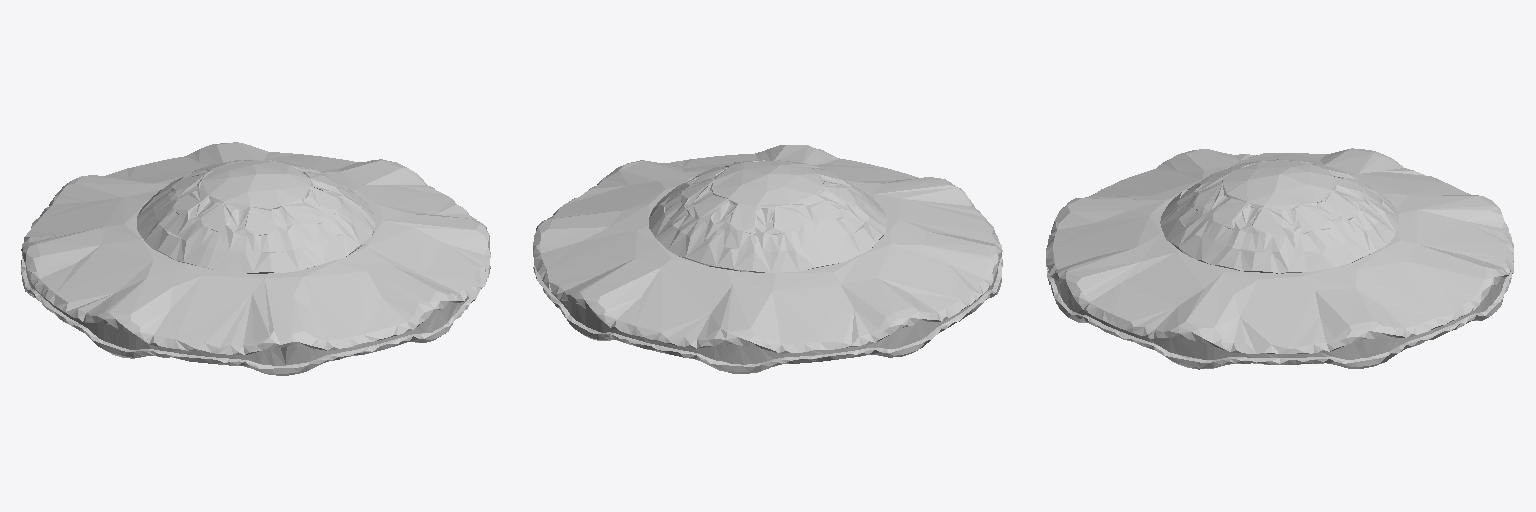
Rendered from frame_071.obj.
3 renders of one model, left to right at view 1: azimuth 30°, elevation 25°; view 2: azimuth 150°, elevation 25°; view 3: azimuth 270°, elevation 25°, orthographic.
Parts seen in each view (by area): view 1: 13884_UFO_Saucer_v1_l2; view 2: 13884_UFO_Saucer_v1_l2; view 3: 13884_UFO_Saucer_v1_l2.
Part boxes in pixels (left/top/right/bottom): 13884_UFO_Saucer_v1_l2: left=21, top=142, right=490, bottom=375; 13884_UFO_Saucer_v1_l2: left=533, top=145, right=1002, bottom=373; 13884_UFO_Saucer_v1_l2: left=1046, top=148, right=1513, bottom=369.
Bounding box in the file's own units: 12.69 × 4.88 × 12.7.